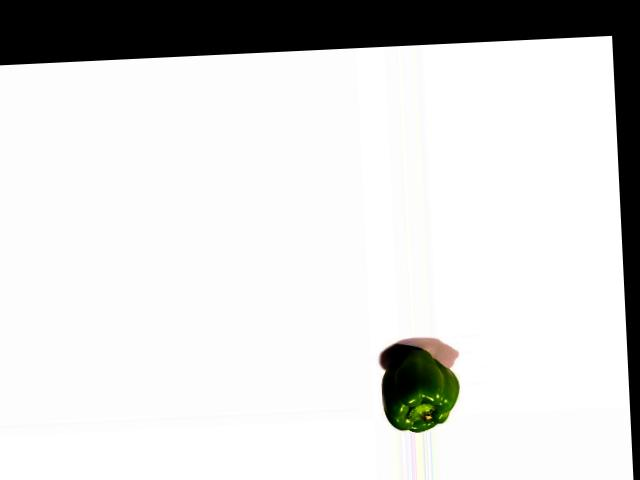bell_pepper: (378, 342, 464, 433)
